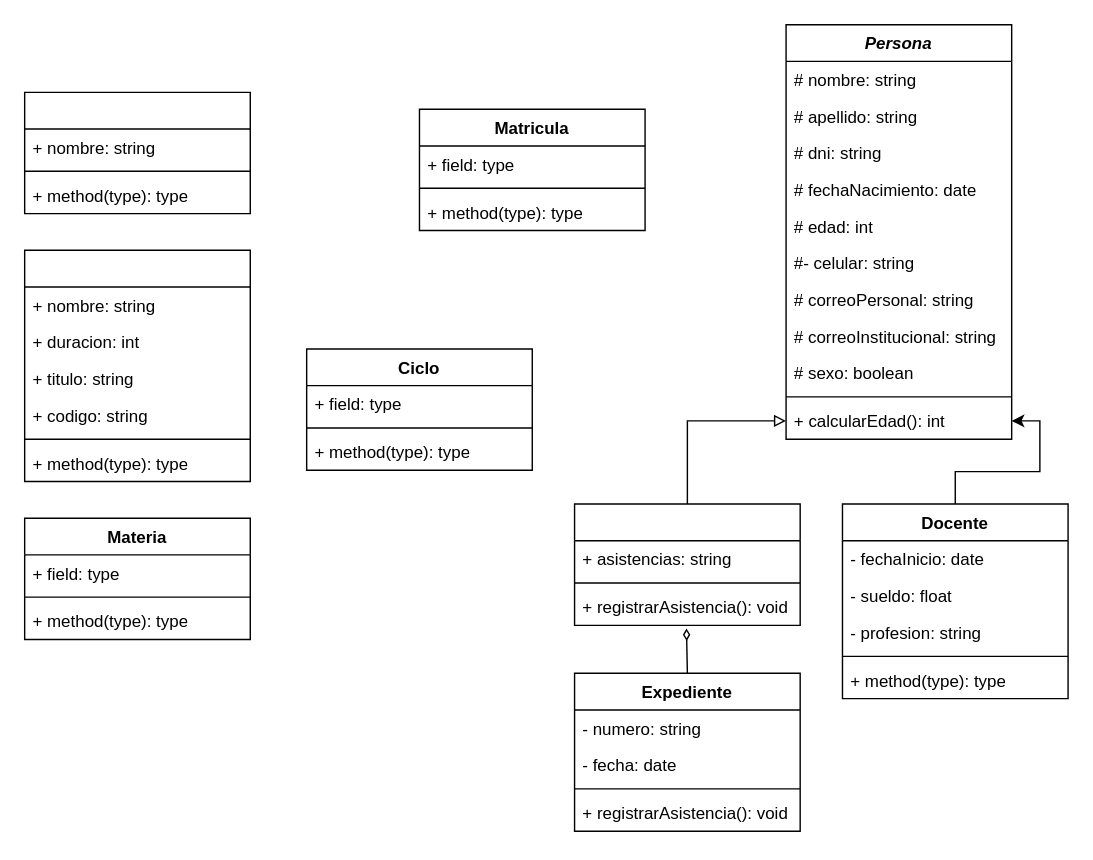
Image size: 1093x860. Some labels were removed from this diagram. Each missing label, with the box of its shape:
Carrera: (23, 249, 250, 482)
Estudiante: (573, 503, 800, 625)
Facultad: (23, 91, 250, 214)
